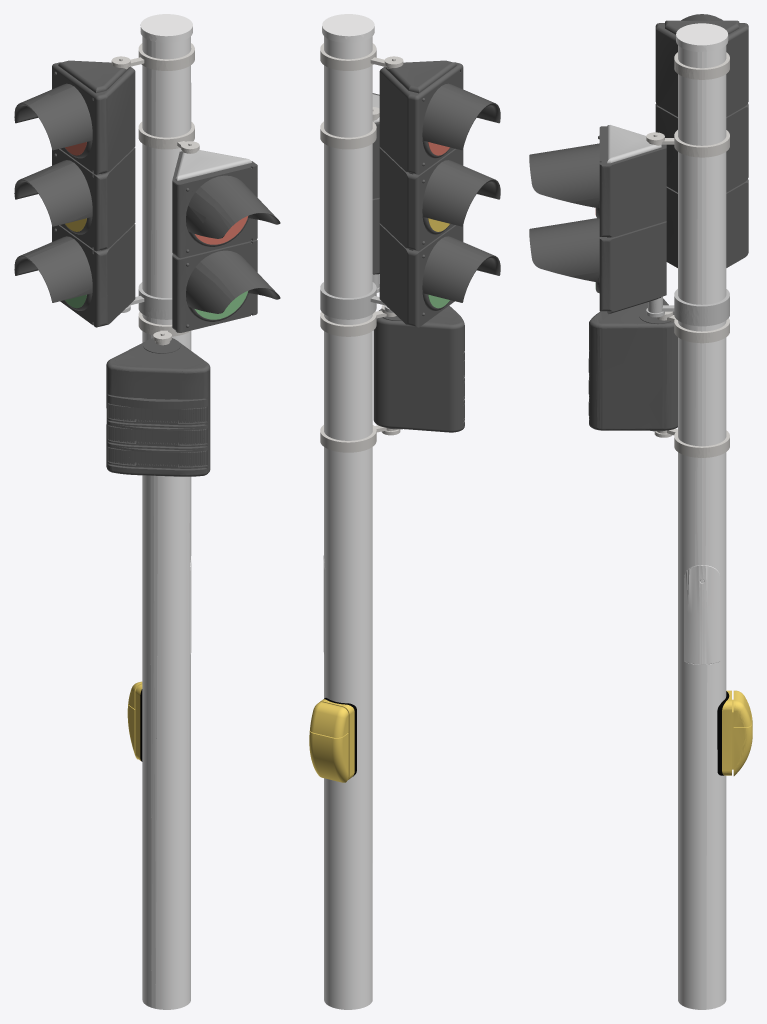
The model's file is traffic light L.fbx.
The picture shows the model from 3 angles, left to right: view 1: azimuth 30°, elevation 25°; view 2: azimuth 150°, elevation 25°; view 3: azimuth 270°, elevation 25°; orthographic projection.
Visible parts, largest first — view 1: traffic light pole.001; view 2: traffic light pole.001; view 3: traffic light pole.001.
Part boxes in pixels (box(x1,y1,x2,y2)): traffic light pole.001: box(14, 14, 280, 1009); traffic light pole.001: box(309, 14, 500, 1009); traffic light pole.001: box(529, 14, 752, 1009).
Size of the model in its own units: 5.5 by 28.6 by 6.
